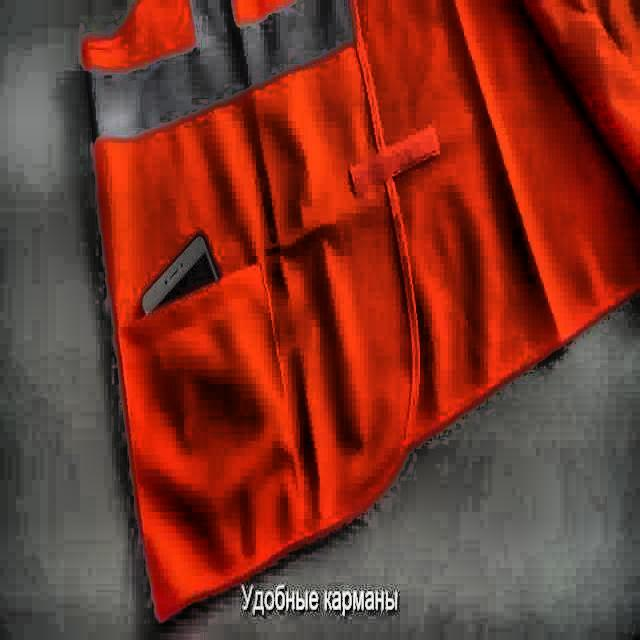safety_jacket: (78, 0, 640, 617)
